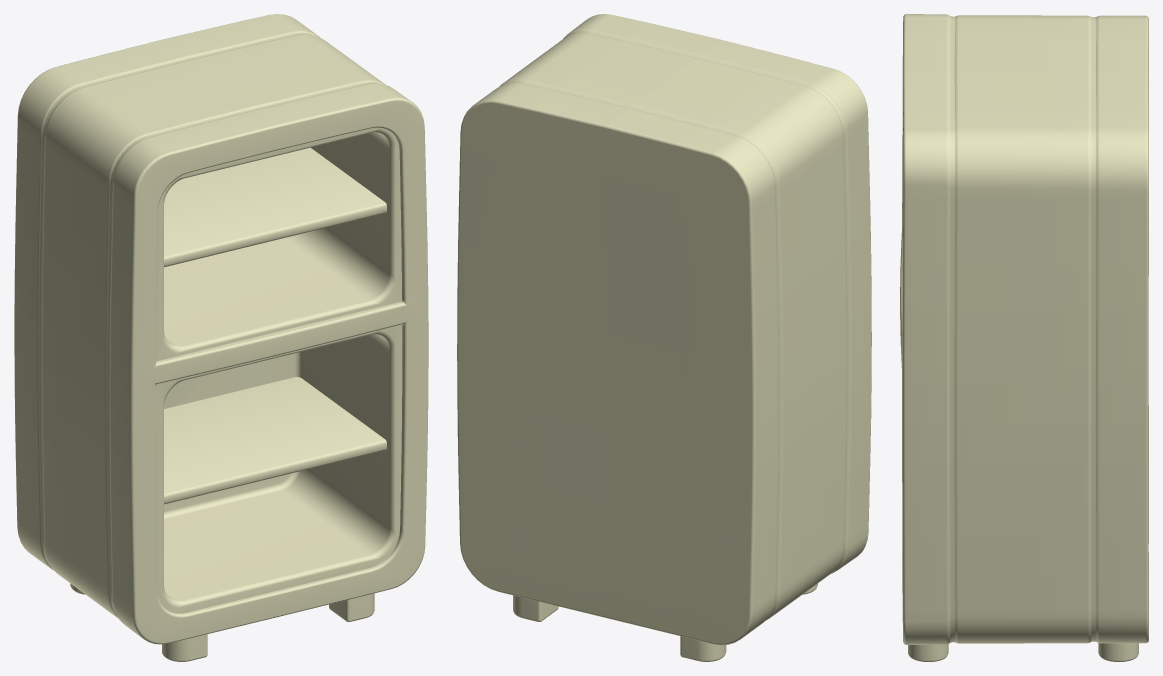
The model's file is SM_Fridge_01_Base.fbx.
3 renders of one model, left to right at view 1: azimuth 30°, elevation 25°; view 2: azimuth 150°, elevation 25°; view 3: azimuth 270°, elevation 25°, orthographic. The views are drawn at different scales.
Visible parts, largest first — view 1: Cube.034, Cube.039, Cube.040, Cube.038; view 2: Cube.034, Cube.038; view 3: Cube.034, Cube.038.
Part boxes in pixels (<box>): Cube.034: <box>14,14,428,644</box>; Cube.039: <box>155,127,402,613</box>; Cube.040: <box>164,147,386,504</box>; Cube.038: <box>70,583,374,661</box>; Cube.034: <box>457,14,871,645</box>; Cube.038: <box>513,583,817,661</box>; Cube.034: <box>900,14,1148,644</box>; Cube.038: <box>908,643,1138,661</box>.
Size of the model in its own units: 124 by 206 by 86.45.
